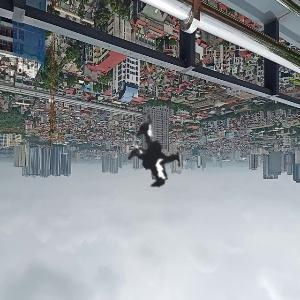drone: (80, 49, 270, 239)
